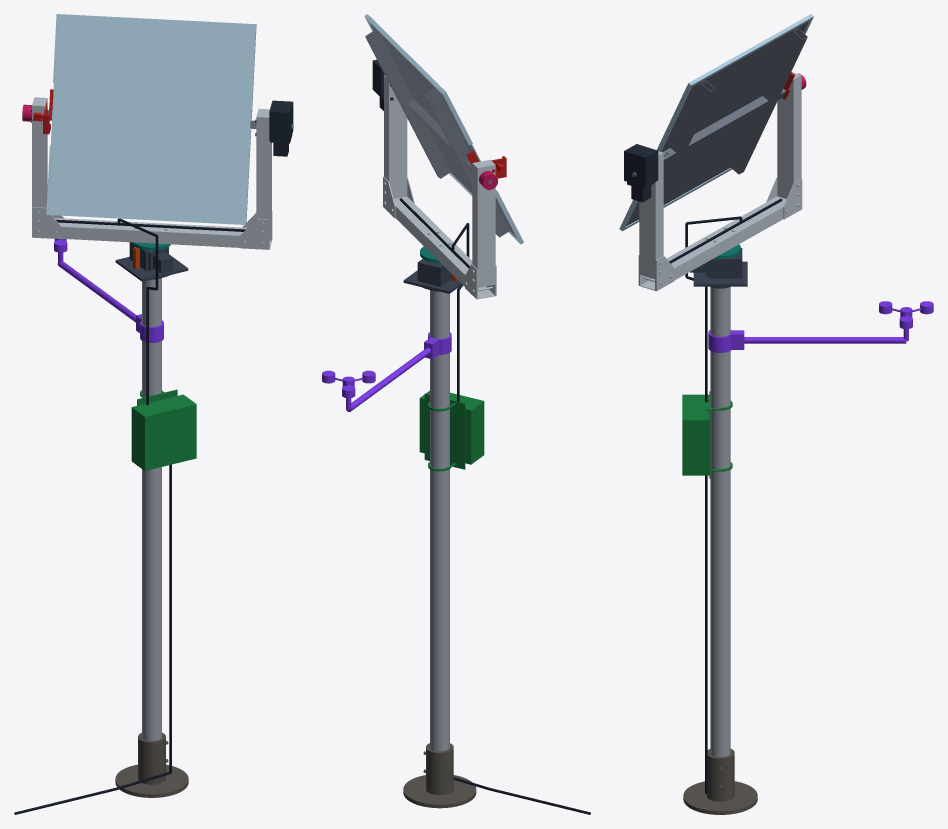
3 views of the same model, side by side, from view 1: azimuth 30°, elevation 25°; view 2: azimuth 150°, elevation 25°; view 3: azimuth 270°, elevation 25° (orthographic).
Visible parts, largest first — view 1: Glass mirror, 600 x 600 mm, with edge channel, Gimbal yoke, aluminum frame, Mast, 60.3 mm steel pipe, Controller box with stow reserve, Cabling, 12 V and motor leads, Ground anchor and flange, Azimuth drive and mast cap, Cup anemometer on side arm, Elevation drive, NEMA17 on NMRV030; view 2: Mast, 60.3 mm steel pipe, Gimbal yoke, aluminum frame, Backing panel, ribs and torque tube, Controller box with stow reserve, Ground anchor and flange, Cup anemometer on side arm, Cabling, 12 V and motor leads, Glass mirror, 600 x 600 mm, with edge channel, Azimuth drive and mast cap; view 3: Backing panel, ribs and torque tube, Mast, 60.3 mm steel pipe, Gimbal yoke, aluminum frame, Ground anchor and flange, Cup anemometer on side arm, Controller box with stow reserve, Cabling, 12 V and motor leads, Glass mirror, 600 x 600 mm, with edge channel, Elevation drive, NEMA17 on NMRV030, Azimuth drive and mast cap.
Boxes of the visible parts, box(x1,y1,x2,y2) form: Glass mirror, 600 x 600 mm, with edge channel: box(46, 14, 256, 224); Gimbal yoke, aluminum frame: box(32, 97, 272, 249); Mast, 60.3 mm steel pipe: box(142, 278, 161, 740); Controller box with stow reserve: box(131, 389, 196, 470); Cabling, 12 V and motor leads: box(14, 218, 245, 814); Ground anchor and flange: box(115, 732, 188, 797); Azimuth drive and mast cap: box(115, 242, 188, 281); Cup anemometer on side arm: box(54, 239, 163, 342); Elevation drive, NEMA17 on NMRV030: box(255, 100, 293, 156); Mast, 60.3 mm steel pipe: box(430, 290, 449, 751); Gimbal yoke, aluminum frame: box(383, 75, 496, 299); Backing panel, ribs and torque tube: box(365, 23, 516, 237); Controller box with stow reserve: box(419, 390, 484, 471); Ground anchor and flange: box(403, 743, 476, 808); Cup anemometer on side arm: box(322, 332, 451, 411); Cabling, 12 V and motor leads: box(399, 198, 590, 814); Glass mirror, 600 x 600 mm, with edge channel: box(364, 14, 523, 244); Azimuth drive and mast cap: box(403, 259, 461, 293); Backing panel, ribs and torque tube: box(626, 21, 809, 225); Mast, 60.3 mm steel pipe: box(710, 287, 730, 756); Gimbal yoke, aluminum frame: box(638, 72, 802, 291); Ground anchor and flange: box(683, 749, 757, 814); Cup anemometer on side arm: box(708, 301, 933, 352); Controller box with stow reserve: box(682, 391, 732, 478); Cabling, 12 V and motor leads: box(669, 198, 782, 793); Glass mirror, 600 x 600 mm, with edge channel: box(619, 14, 813, 231); Elevation drive, NEMA17 on NMRV030: box(624, 144, 658, 202); Azimuth drive and mast cap: box(690, 248, 747, 288).
Bounding box in the file's own units: 0.8623 × 2.48 × 0.9308.
